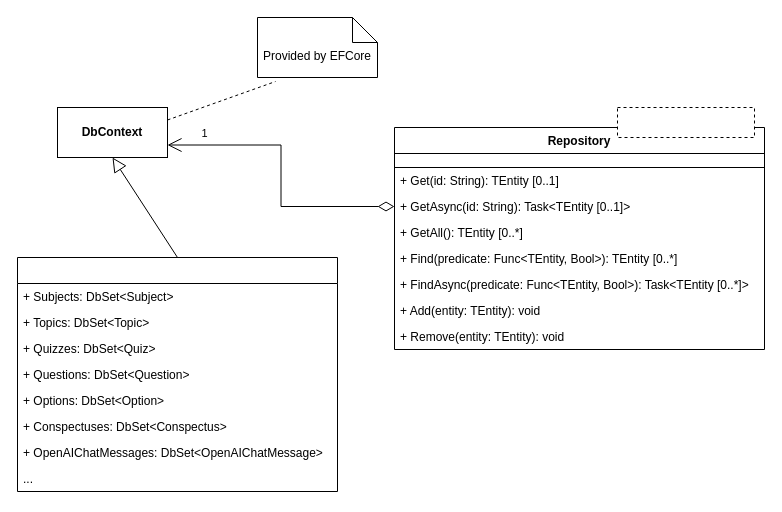
Image size: 782x512. Some labels were removed from this diagram. Each missing label, with the box of its shape:
EduPalDatabaseContext: (16, 256, 338, 492)
TEntity: BaseEntity: (616, 106, 754, 138)
